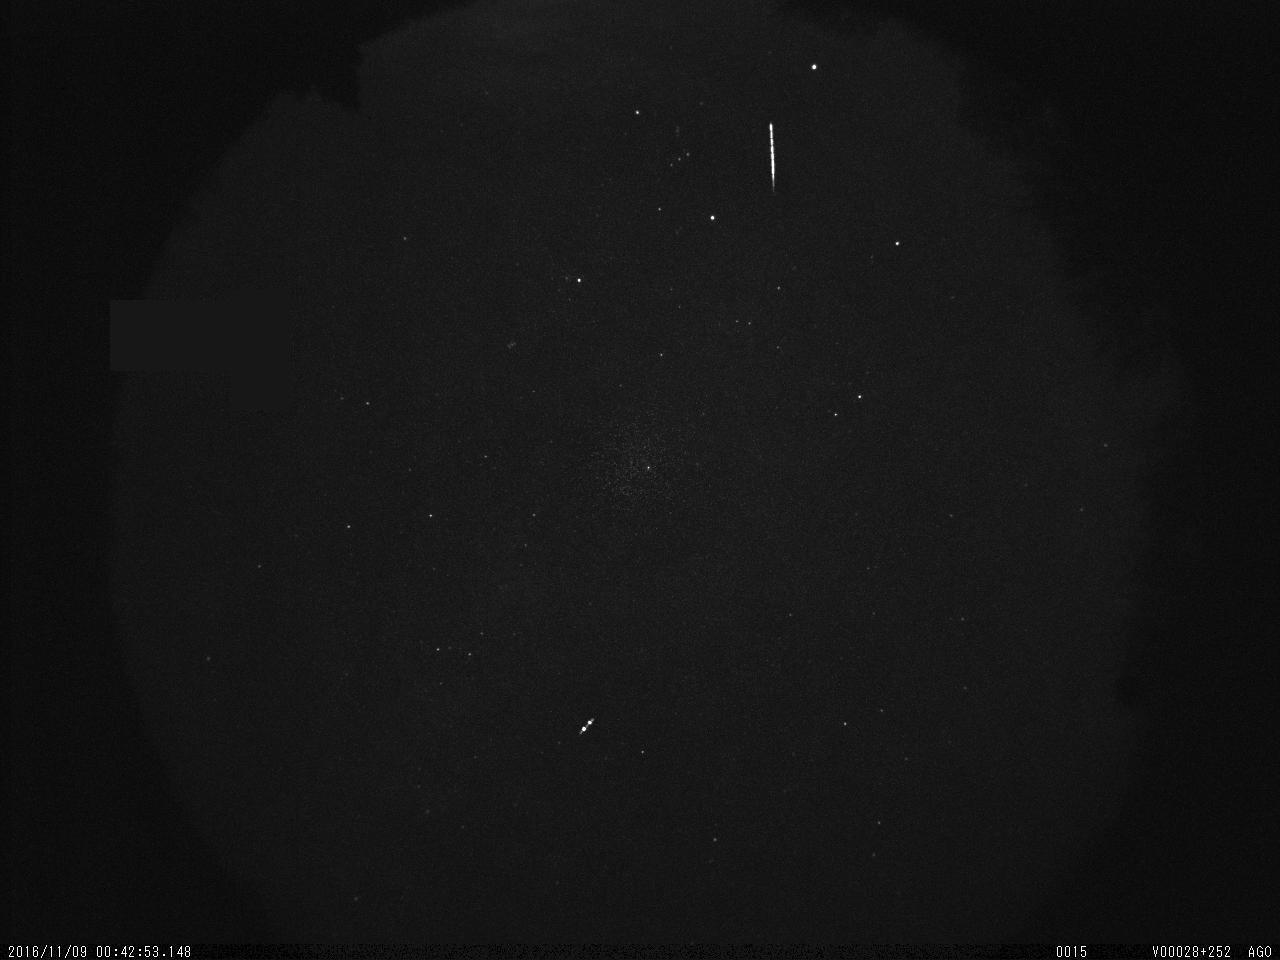meteor: (758, 115, 797, 212)
satelite: (578, 708, 599, 743)
